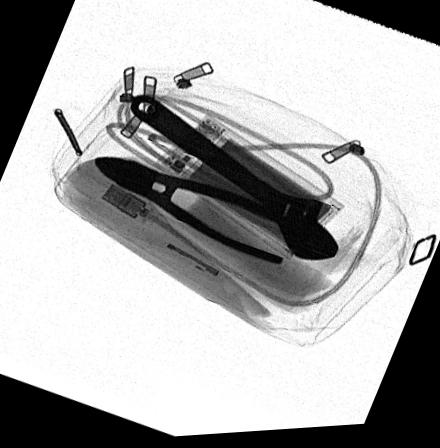Pliers: (89, 155, 306, 270)
Powerbank: (153, 116, 344, 262)
Wrench: (130, 94, 339, 263)
